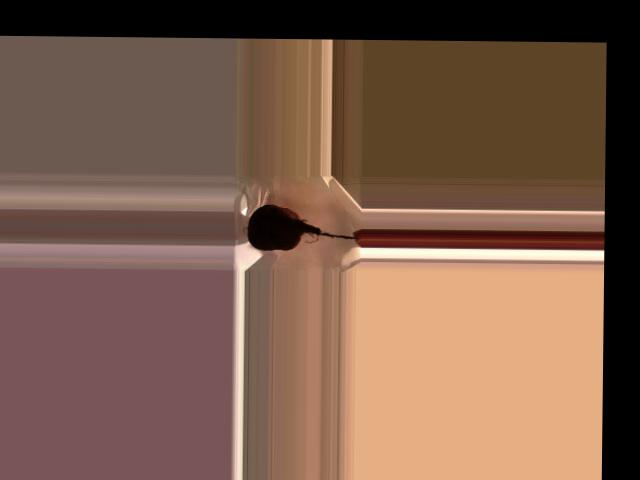beet: (247, 203, 357, 250)
